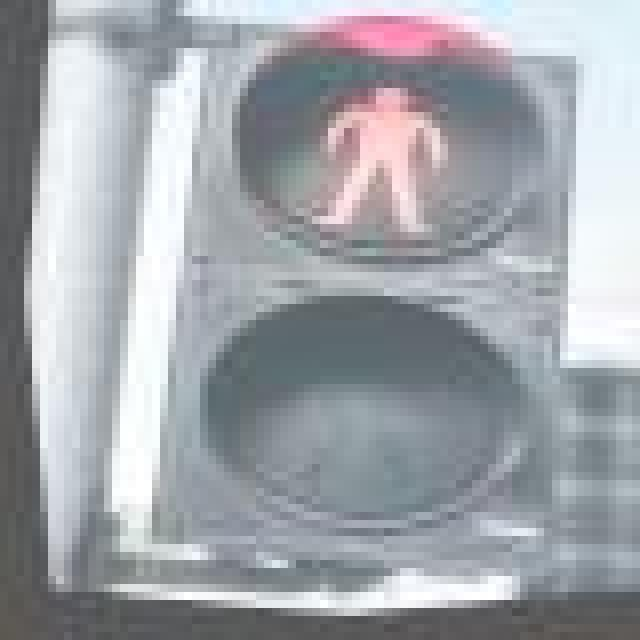redlight: (120, 40, 624, 632)
